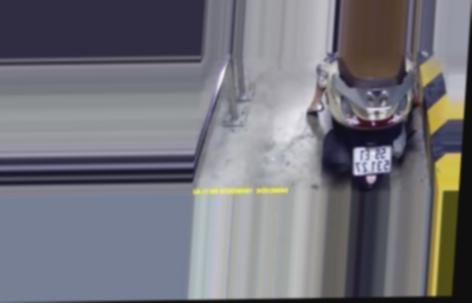License_Plate: (346, 143, 395, 180)
